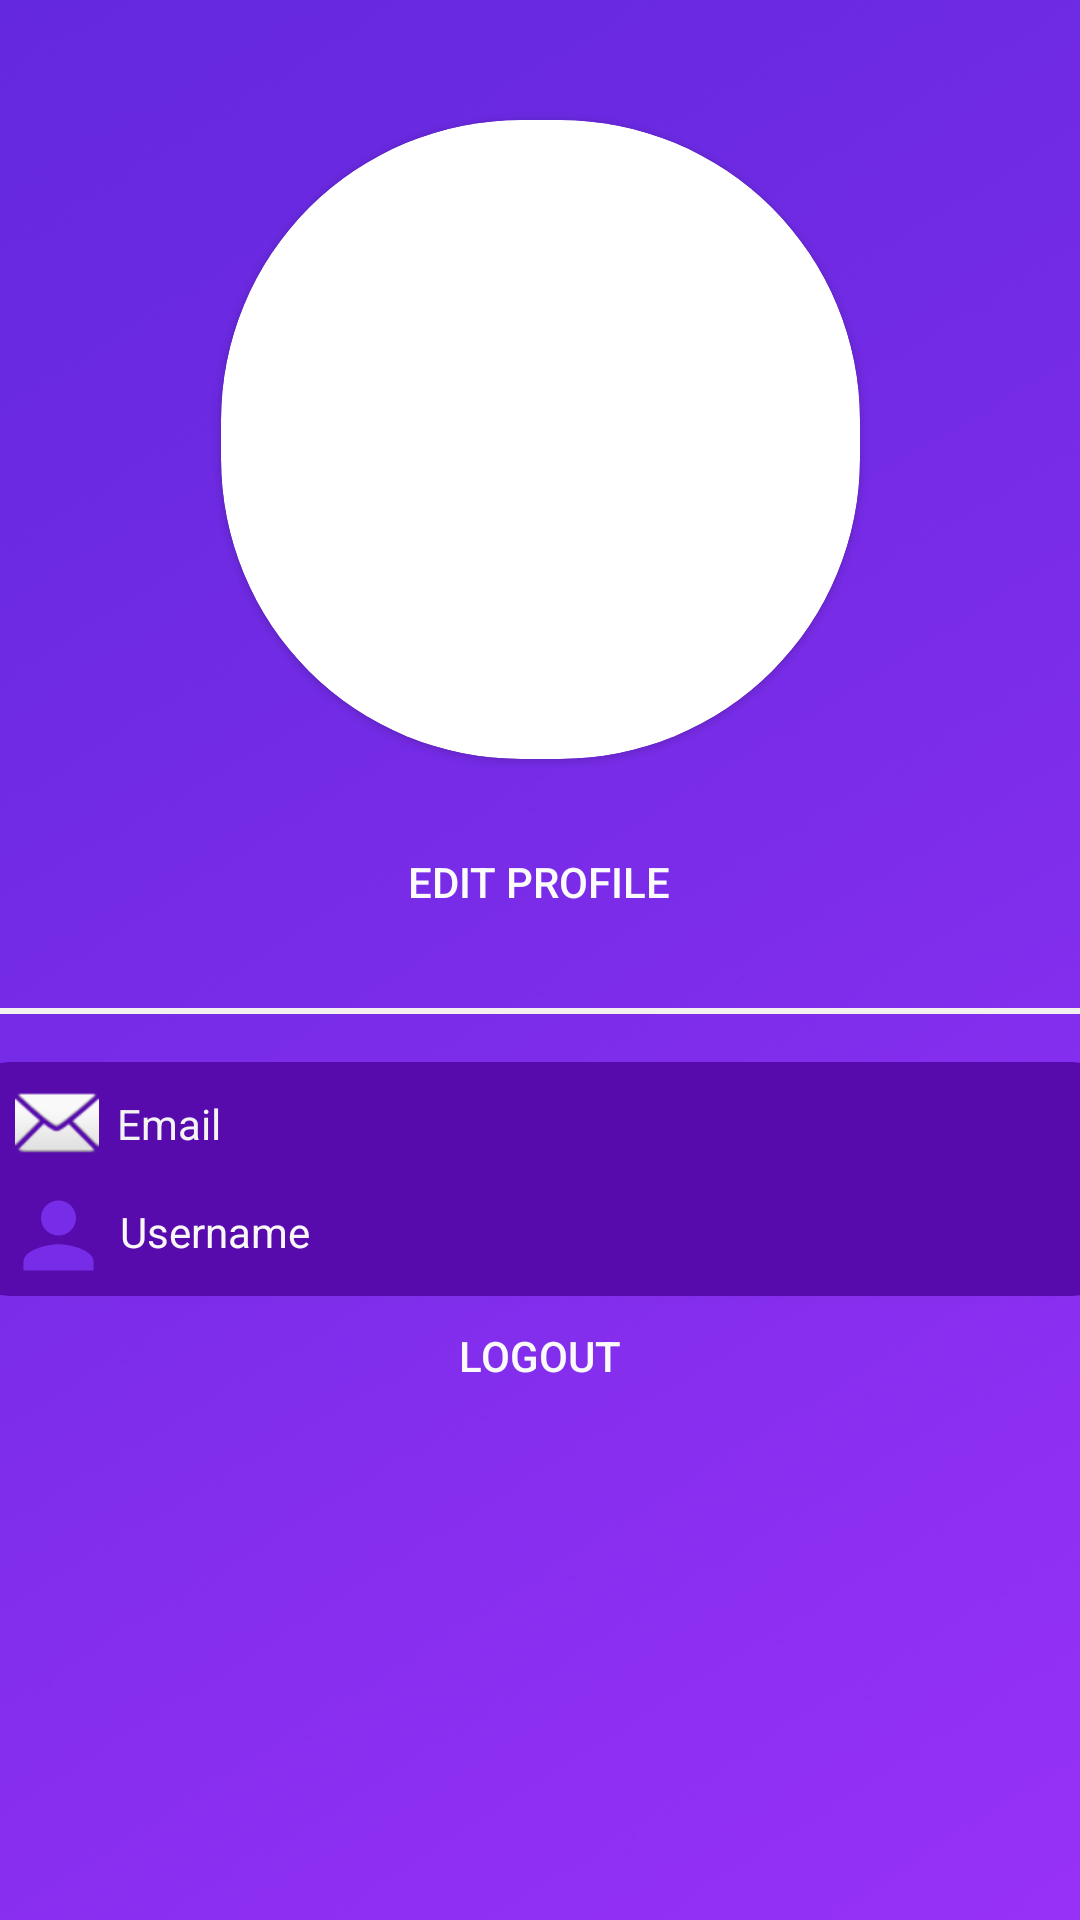

Point at icon controls on the screen. Image size 1080px x 1920px, points as (x,y).
person: (58,1235)
